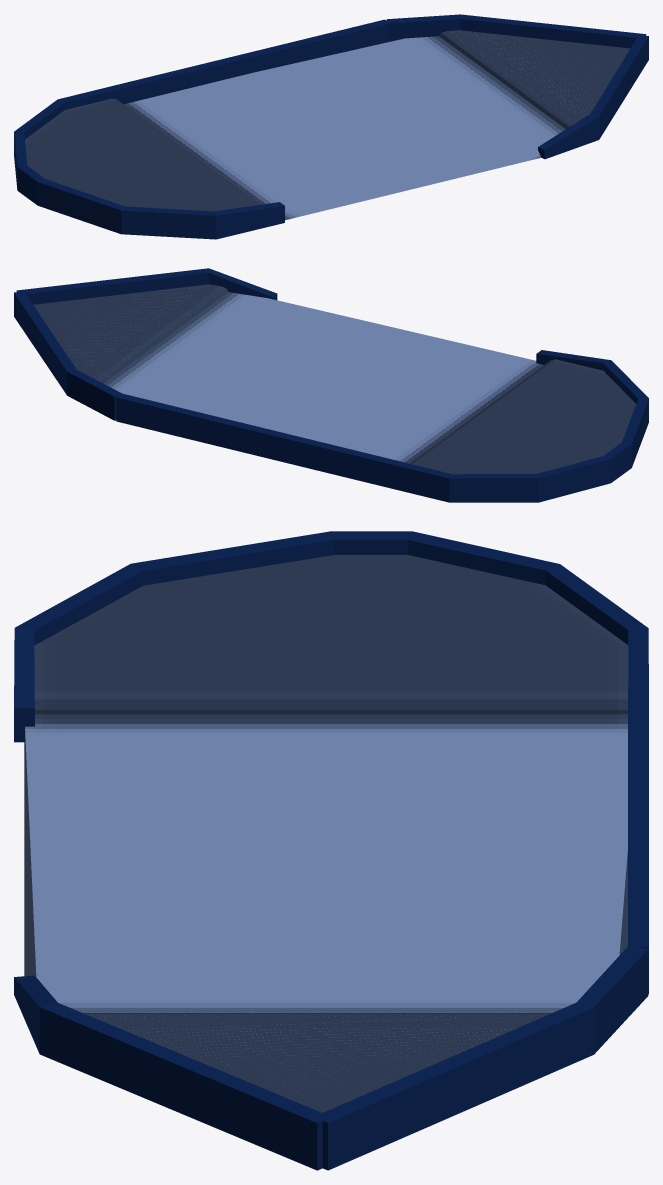
The model's file is Ship1Map.fbx.
3 views of the same model, one above another, from view 1: azimuth 30°, elevation 25°; view 2: azimuth 150°, elevation 25°; view 3: azimuth 270°, elevation 25° (orthographic). The views are drawn at different scales.
Visible parts, largest first — view 1: Plane, Plane.001; view 2: Plane, Plane.001; view 3: Plane, Plane.001.
Part boxes in pixels (x1,y1,x2,y2): Plane: (25,30,630,220); Plane.001: (14,14,648,239); Plane: (33,284,636,474); Plane.001: (14,268,648,502); Plane: (24,555,628,1112); Plane.001: (14,531,648,1170).
Size of the model in its own units: 469 by 31.24 by 213.
